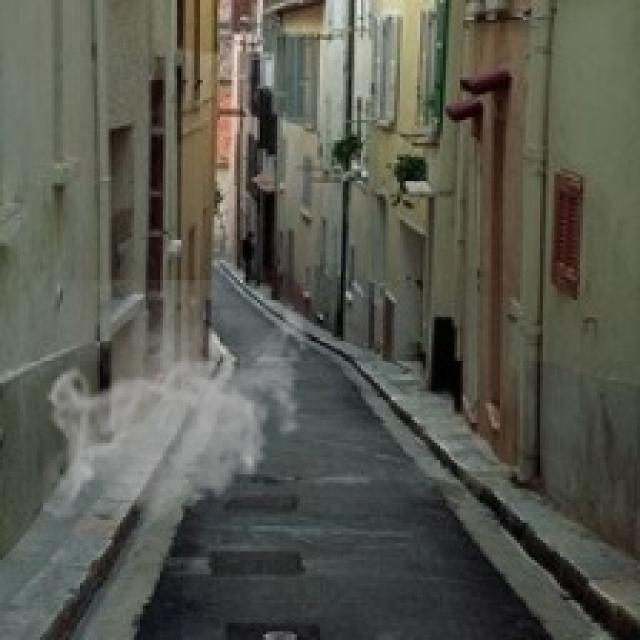smoke: (43, 280, 317, 531)
